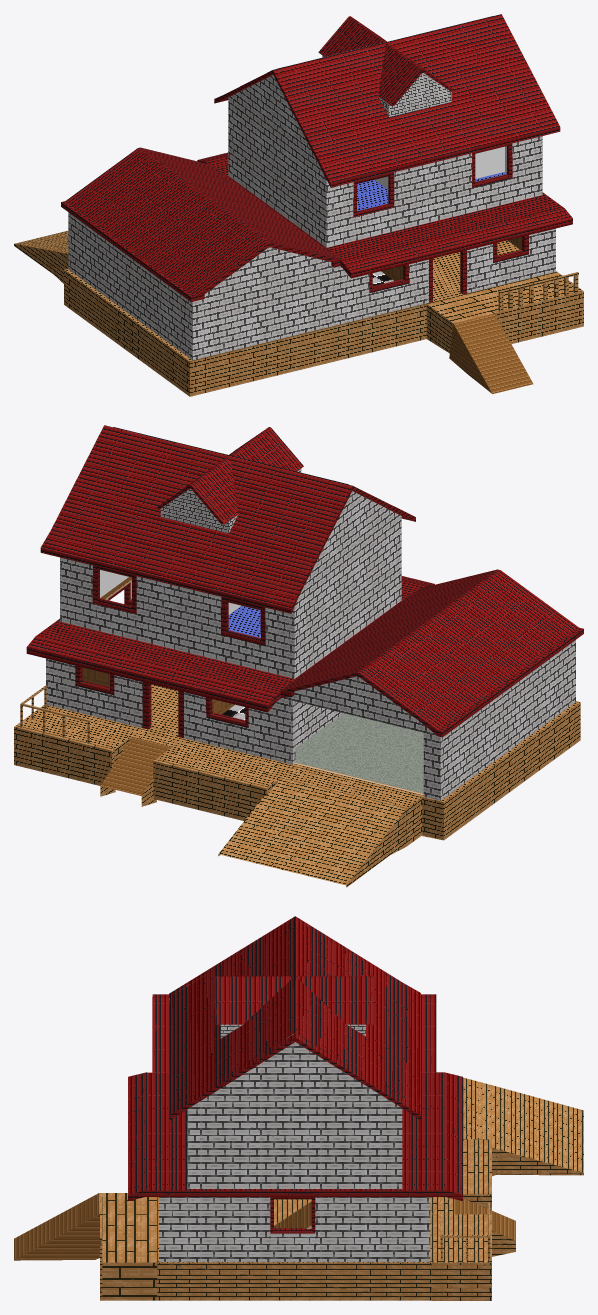
File: BGN_HOUSE 1.fbx
3 views of the same model, one above another, from view 1: azimuth 30°, elevation 25°; view 2: azimuth 150°, elevation 25°; view 3: azimuth 270°, elevation 25° (orthographic). The views are drawn at different scales.
Visible parts, largest first — view 1: BGN_HOUSE_1; view 2: BGN_HOUSE_1; view 3: BGN_HOUSE_1.
Boxes of the visible parts, x1,y1,x2,y2 form: BGN_HOUSE_1: (14,14,583,396); BGN_HOUSE_1: (14,425,583,887); BGN_HOUSE_1: (14,916,583,1300).
Size of the model in its own units: 1580 by 1010 by 1898.
